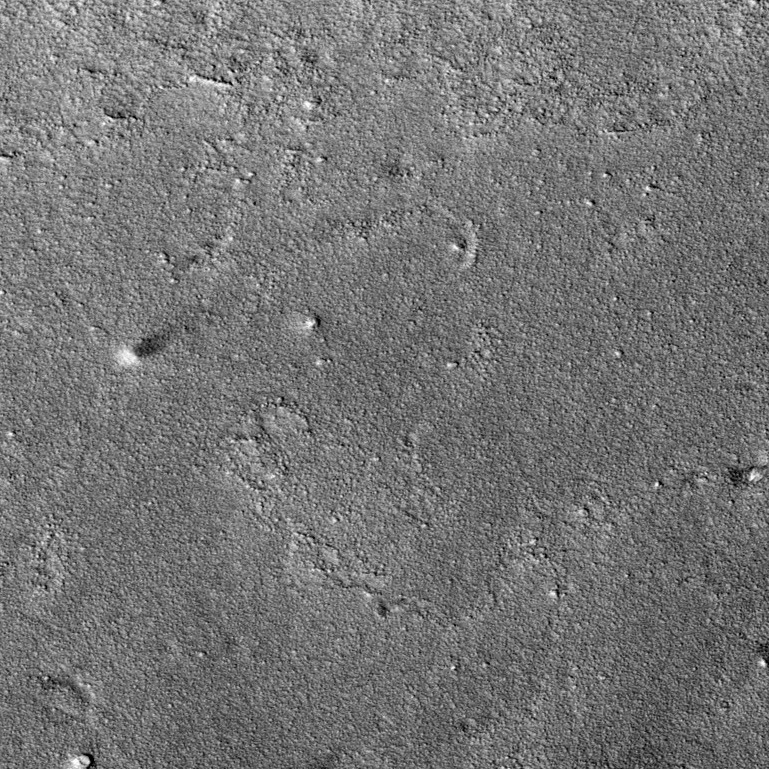dust_devil: (112, 319, 192, 372)
